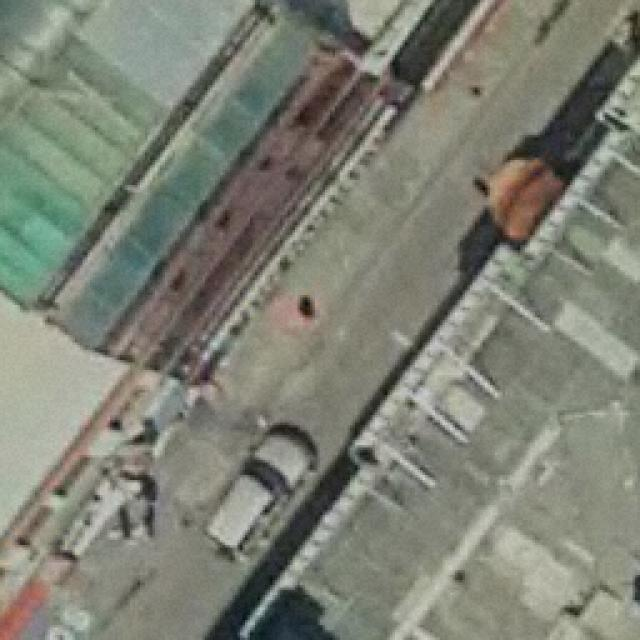vendedor_ambulante: (485, 151, 569, 244)
